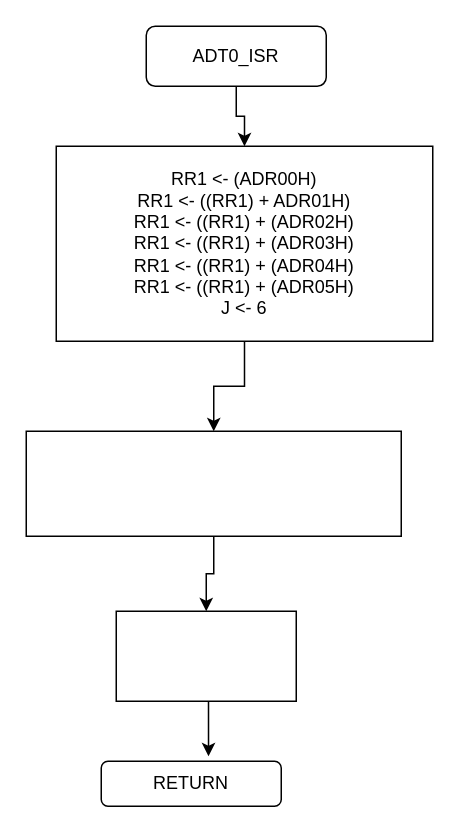
The diagram is 459 pixels wide and 833 high, and some of its shapes have lost their labels. Each missing label, with the box of its shape:
ATD0CTLS <- $80: (115, 610, 296, 701)
J <- (RR1)/(J) NIVEL_PROM <- (J): (25, 430, 401, 536)
